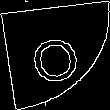O_N: (27, 27, 83, 83)
